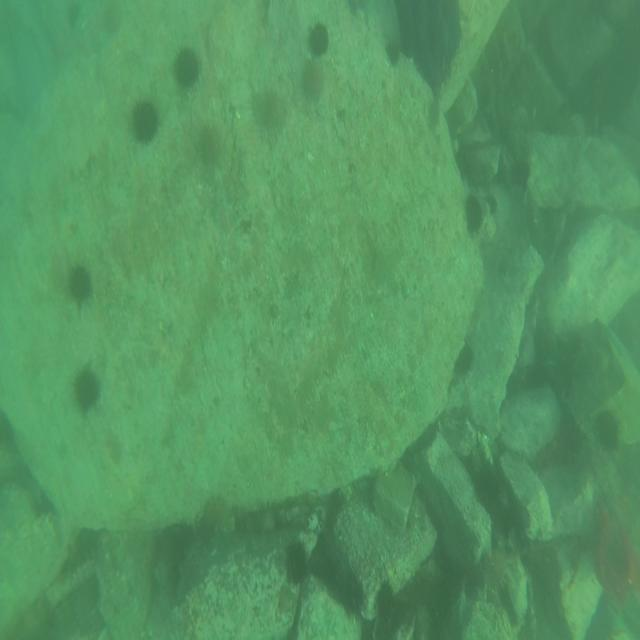echinus: (67, 260, 94, 310), (253, 82, 281, 130), (132, 94, 158, 144), (476, 462, 504, 506), (76, 368, 102, 412), (173, 46, 200, 88), (596, 408, 620, 448), (343, 572, 364, 616), (286, 543, 308, 585), (200, 120, 221, 164), (302, 57, 324, 98), (466, 188, 484, 234), (308, 21, 328, 53), (458, 342, 475, 379), (384, 35, 401, 71), (514, 158, 530, 187)
